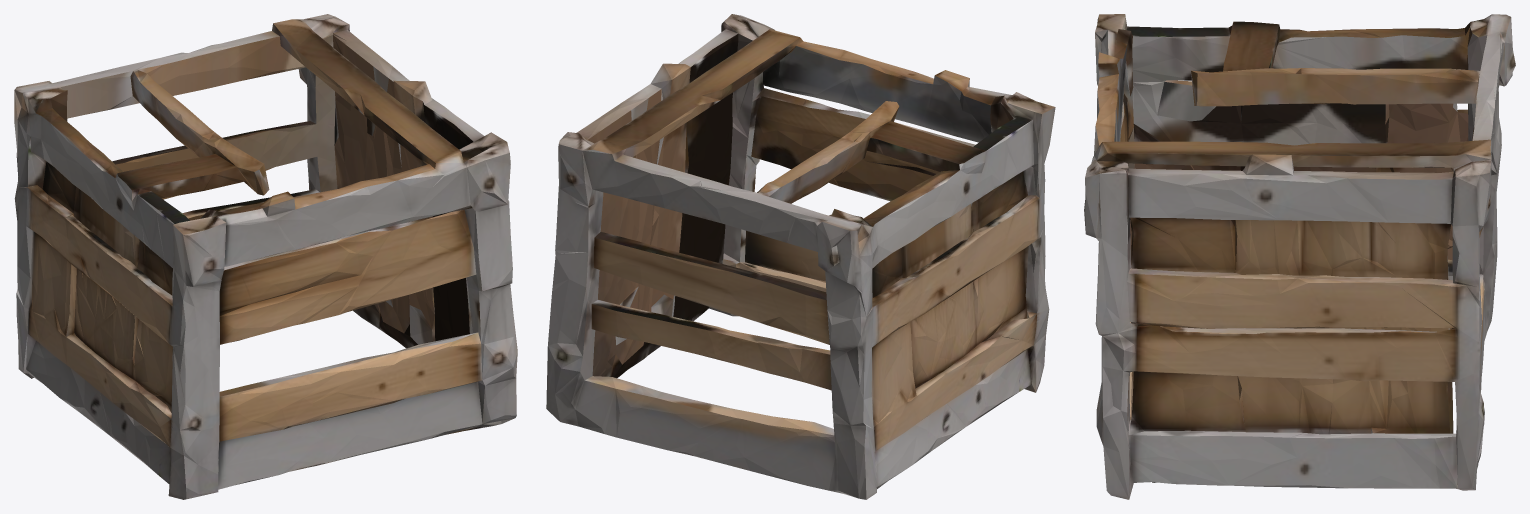
The model's file is supply_cache.glb.
3 renders of one model, left to right at view 1: azimuth 30°, elevation 25°; view 2: azimuth 150°, elevation 25°; view 3: azimuth 270°, elevation 25°, orthographic. The views are drawn at different scales.
Visible parts, largest first — view 1: supply_cache_tex; view 2: supply_cache_tex; view 3: supply_cache_tex.
Part boxes in pixels (x1,y1,x2,y2): supply_cache_tex: (14,14,517,499); supply_cache_tex: (546,14,1055,499); supply_cache_tex: (1084,14,1515,499).
Bounding box in the file's own units: 0.95 × 0.7896 × 0.9406.
1 material, 1 textured.
